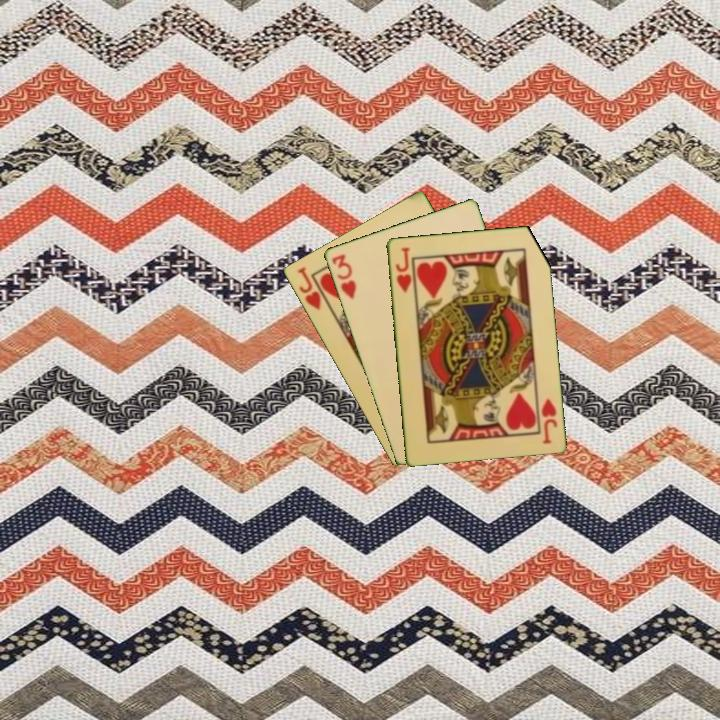3h: (328, 250, 359, 302)
Jh: (294, 263, 333, 313), (392, 243, 414, 296), (537, 395, 559, 447)
